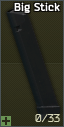Glock 9x19 "Big Stick" 33-round magazine: (0, 0, 64, 127)
